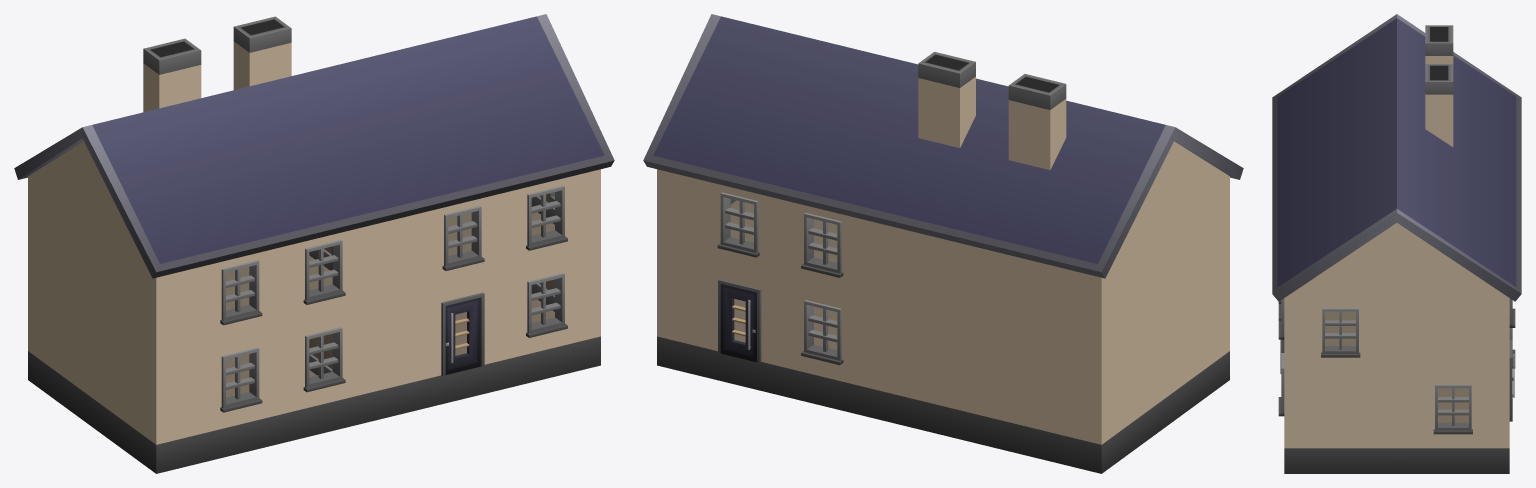
Rendered from Cottage.fbx.
3 views of the same model, side by side, from view 1: azimuth 30°, elevation 25°; view 2: azimuth 150°, elevation 25°; view 3: azimuth 270°, elevation 25° (orthographic). The views are drawn at different scales.
Visible parts, largest first — view 1: Cottage; view 2: Cottage; view 3: Cottage.
Part boxes in pixels (left/top/right/bottom): Cottage: left=14, top=14, right=614, bottom=473; Cottage: left=643, top=14, right=1243, bottom=473; Cottage: left=1272, top=14, right=1521, bottom=473.
Bounding box in the file's own units: 16.69 × 11.5 × 8.86.
